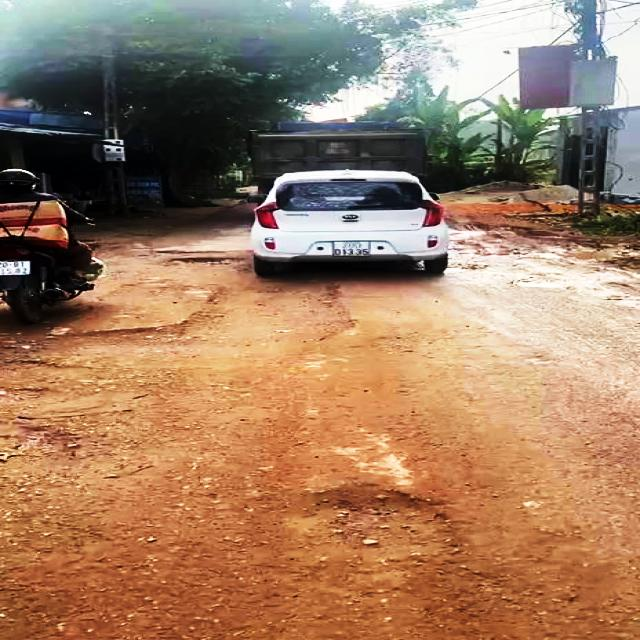pothole: (61, 310, 350, 349), (306, 487, 466, 553), (170, 253, 247, 270)
